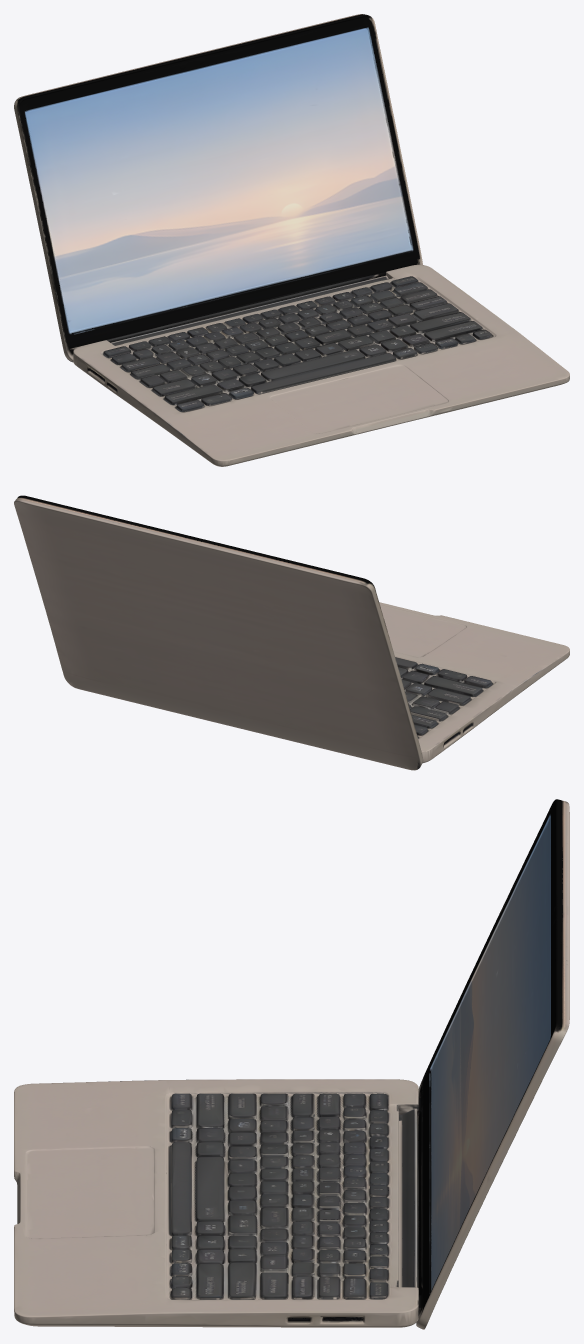
File: computer.glb
The picture shows the model from 3 angles, top to bottom: view 1: azimuth 30°, elevation 25°; view 2: azimuth 150°, elevation 25°; view 3: azimuth 270°, elevation 25°; orthographic projection. The views are drawn at different scales.
Visible parts, largest first — view 1: node_0; view 2: node_0; view 3: node_0.
Part boxes in pixels (box(x1,y1,x2,y2)): node_0: box(14, 14, 569, 466); node_0: box(14, 495, 569, 770); node_0: box(14, 799, 569, 1329).
Bounding box in the file's own units: 0.793 × 0.4875 × 0.7942.
Materials: 1 (1 with a texture image).
